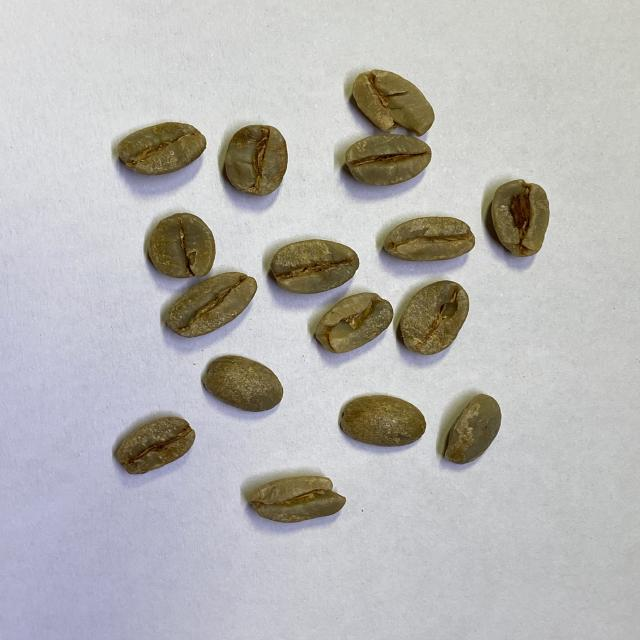bad: (351, 68, 437, 138), (397, 280, 469, 360), (243, 472, 346, 524), (489, 176, 551, 260), (314, 290, 392, 355), (384, 214, 476, 264)
good: (159, 272, 257, 337), (114, 120, 209, 177), (334, 392, 426, 449), (271, 238, 360, 296), (201, 354, 286, 414), (114, 413, 196, 475), (223, 122, 289, 198), (343, 134, 433, 189), (146, 210, 217, 278), (443, 389, 503, 468)
